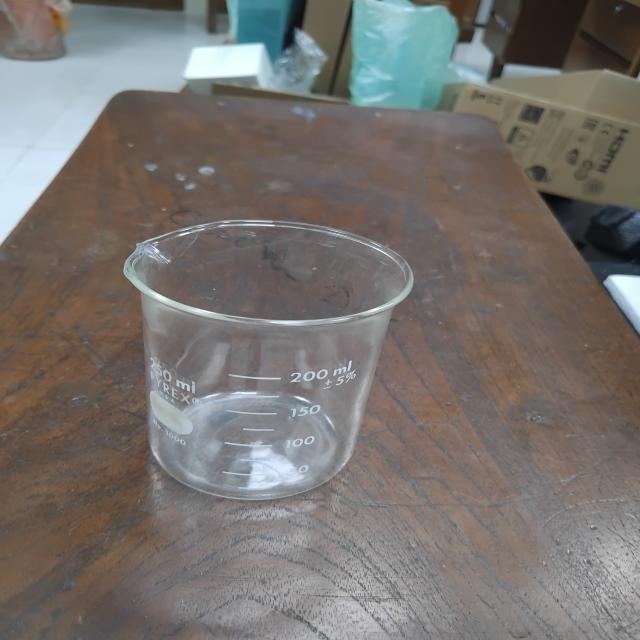Beaker: (92, 206, 442, 520)
